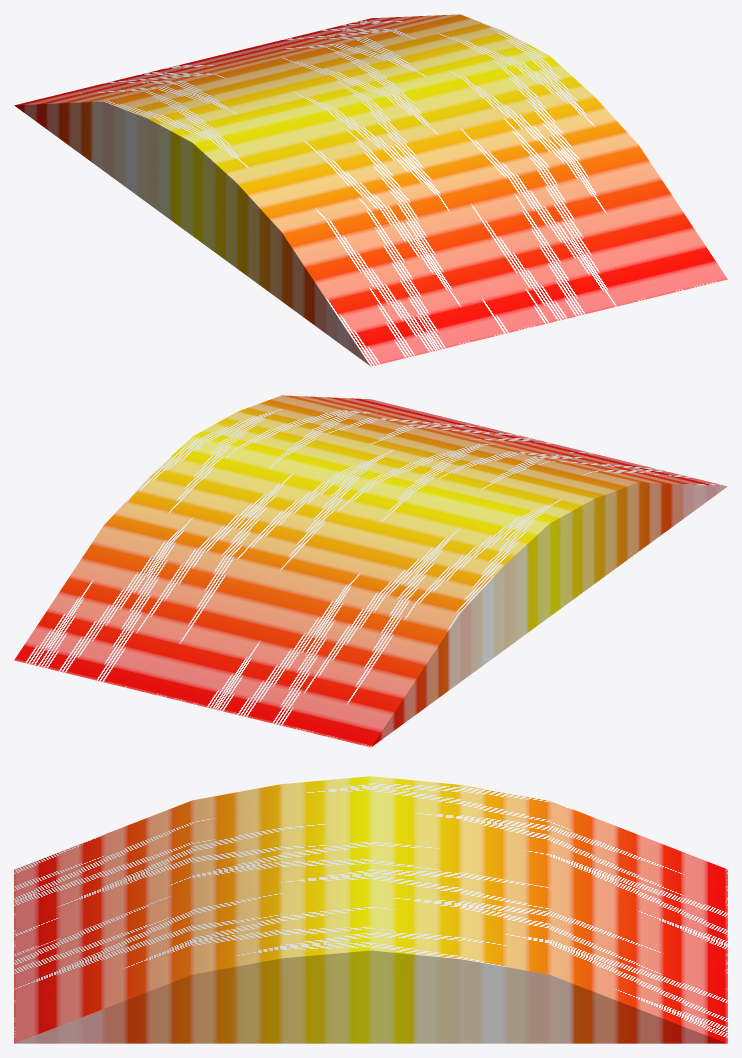
The model's file is Speedboost_parts.fbx.
3 renders of one model, top to bottom at view 1: azimuth 30°, elevation 25°; view 2: azimuth 150°, elevation 25°; view 3: azimuth 270°, elevation 25°, orthographic.
Visible parts, largest first — view 1: speedboost_arrow_mid; view 2: speedboost_arrow_mid; view 3: speedboost_arrow_mid.
Part boxes in pixels (<box>): speedboost_arrow_mid: <box>14,14,727,366</box>; speedboost_arrow_mid: <box>14,395,727,747</box>; speedboost_arrow_mid: <box>14,776,727,1043</box>.
Bounding box in the file's own units: 560 × 140 × 969.
1 material, 1 textured.
